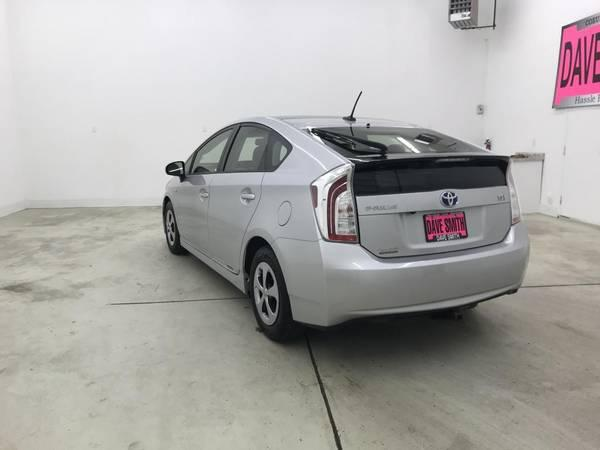Front_Left_Door: (175, 176, 216, 266)
Front_Left_Window: (182, 126, 235, 175)
Left_Taillight: (310, 164, 360, 245)
Rear_Bumper: (273, 222, 532, 326)
Rear_Fender: (248, 130, 326, 243)
Rear_Left_Door: (209, 173, 264, 289)
Rear_Left_Window: (217, 125, 272, 176)
Rear_Windshield: (309, 128, 495, 163)
Right_Taillight: (507, 163, 521, 226)
Roof: (219, 116, 418, 173)
Tailgate: (351, 159, 512, 258)
Wheel: (244, 246, 288, 331), (160, 209, 178, 252)
